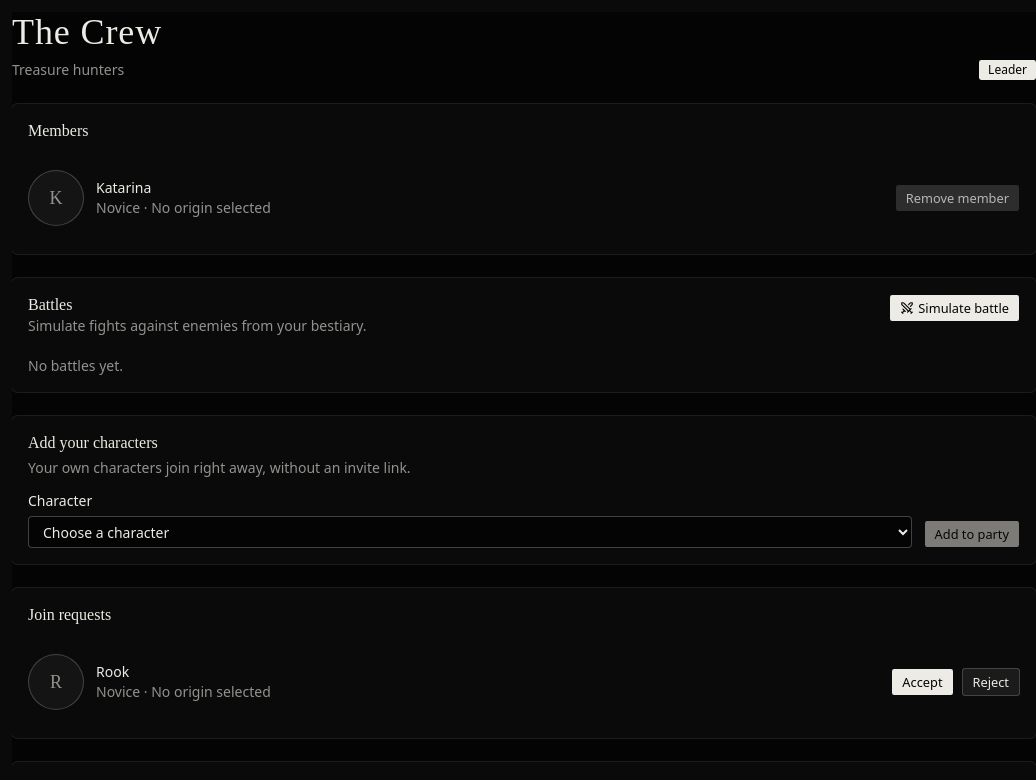
Test: PartyRoute › adding the leader's own characters › reports a failed add
Select "Sable" in the dropdown labelled "Character" at (470, 532), box [28,516,912,548]
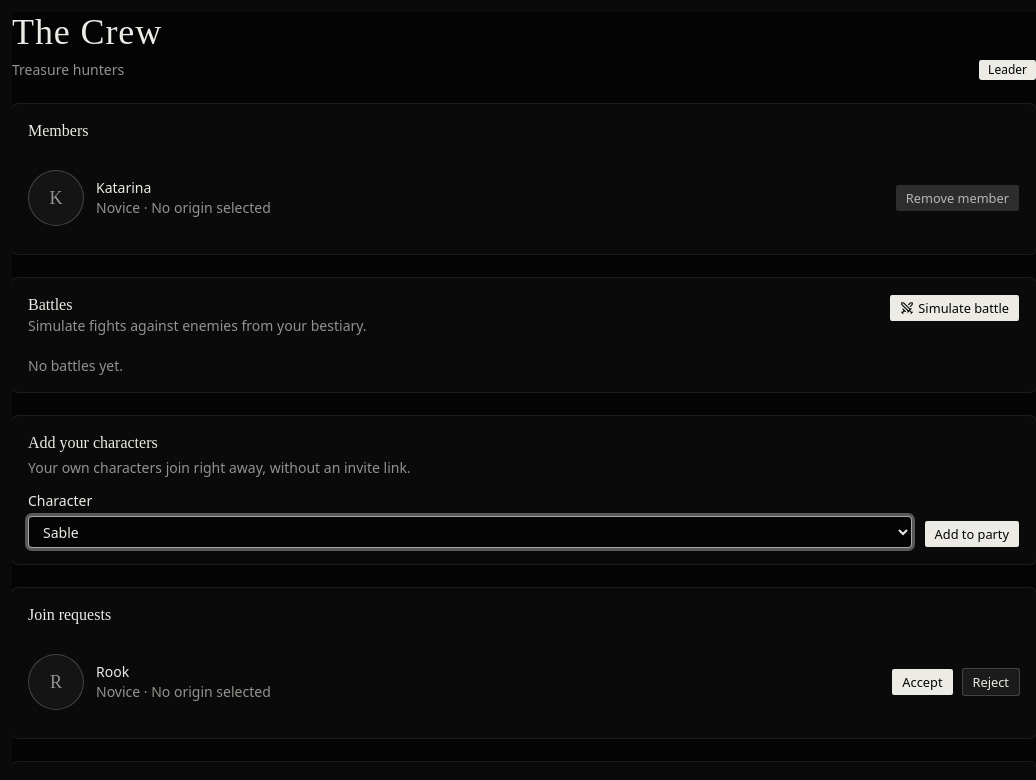
Click the button "Add to party".
click(972, 534)  # box [924,520,1020,548]
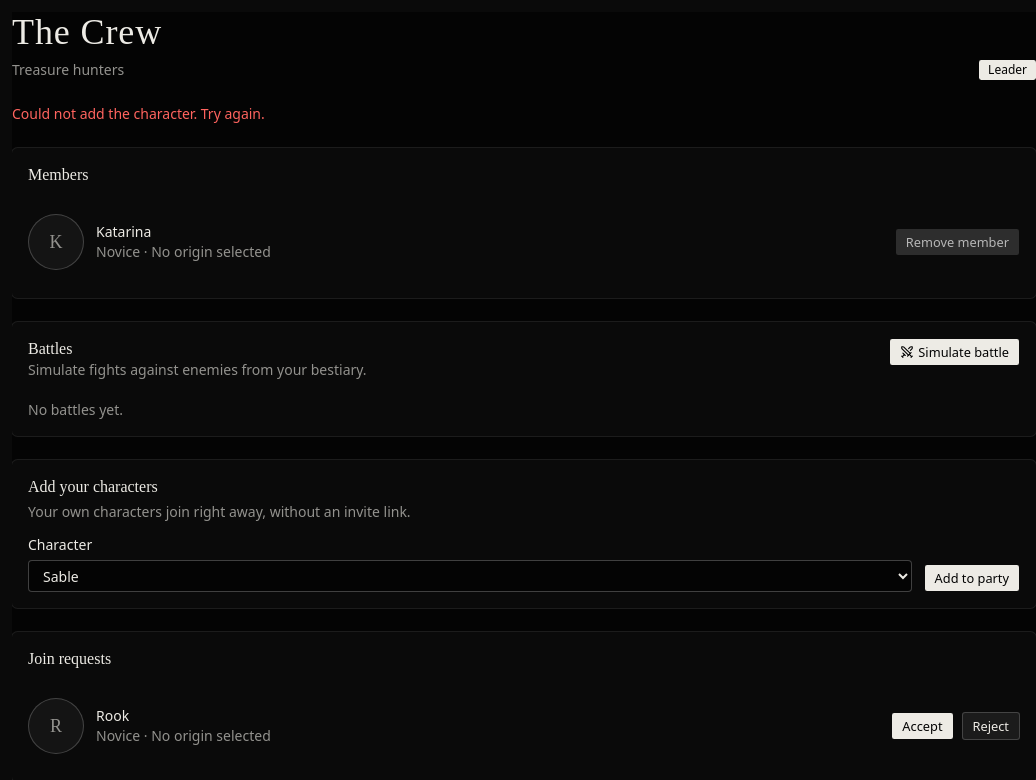
expect the message reads "Could not add the character. Try again.": met, box [12,104,265,123]
